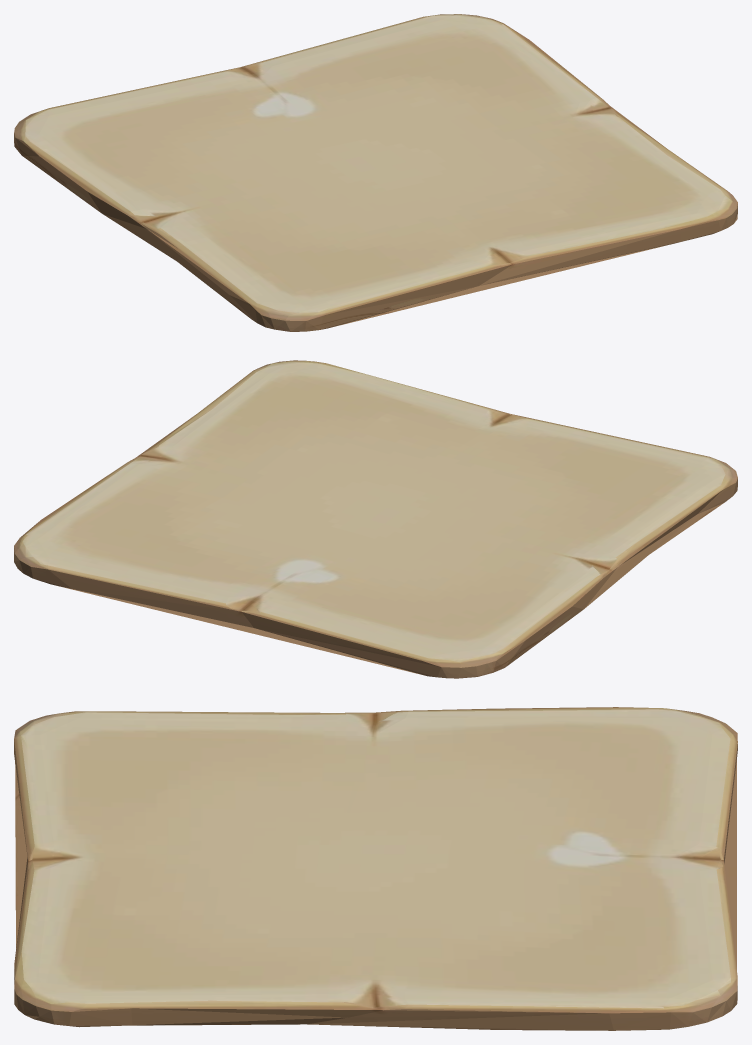
Rendered from baldosa_camino_03.glb.
The picture shows the model from 3 angles, top to bottom: view 1: azimuth 30°, elevation 25°; view 2: azimuth 150°, elevation 25°; view 3: azimuth 270°, elevation 25°; orthographic projection. The views are drawn at different scales.
Parts seen in each view (by area): view 1: BaldosaCamino_03; view 2: BaldosaCamino_03; view 3: BaldosaCamino_03.
Part boxes in pixels (left/top/right/bottom): BaldosaCamino_03: left=14, top=14, right=737, bottom=331; BaldosaCamino_03: left=14, top=360, right=737, bottom=678; BaldosaCamino_03: left=14, top=707, right=737, bottom=1030.
Bounding box in the file's own units: 0.98 × 0.035 × 0.98.
Materials: 1 (1 with a texture image).
